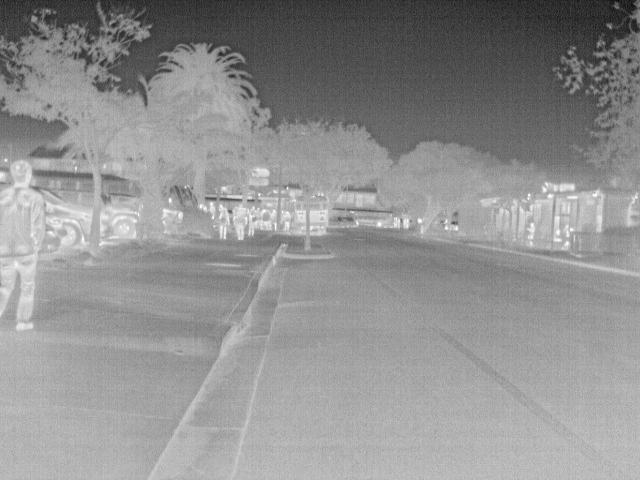car: (34, 184, 94, 246), (105, 204, 139, 242), (162, 206, 186, 232)
person: (2, 154, 46, 332), (233, 200, 251, 243), (216, 207, 231, 241), (560, 222, 573, 248), (252, 206, 264, 231), (524, 220, 536, 243), (282, 209, 294, 231), (269, 208, 280, 231), (551, 228, 564, 243)
